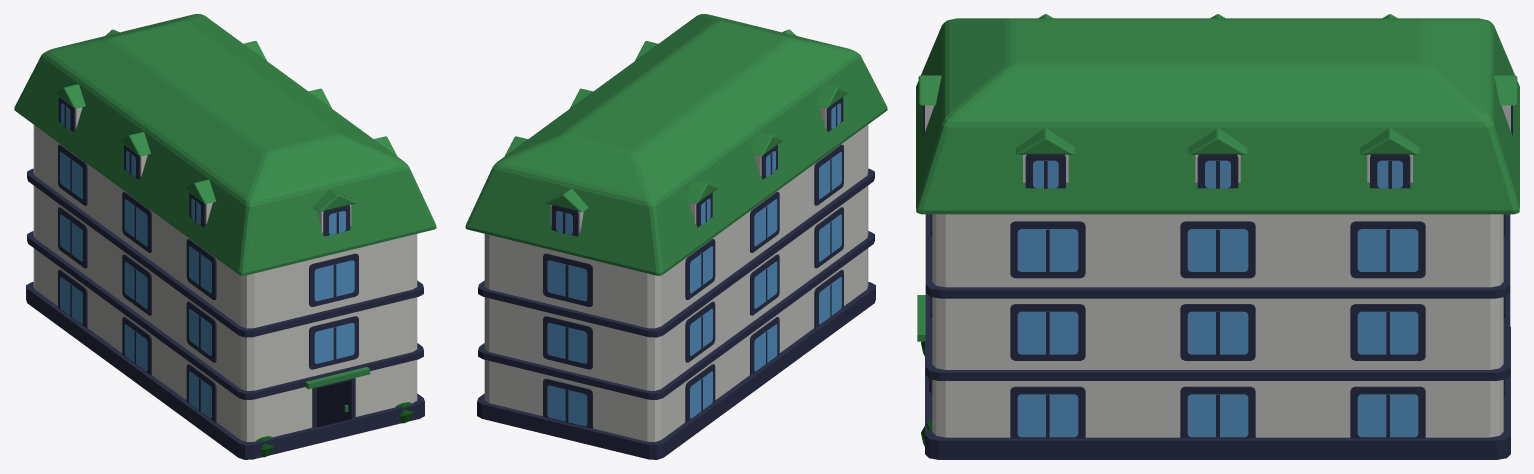
Rendered from house-1x2-3f-mansard-a.glb.
The picture shows the model from 3 angles, left to right: view 1: azimuth 30°, elevation 25°; view 2: azimuth 150°, elevation 25°; view 3: azimuth 270°, elevation 25°; orthographic projection. The views are drawn at different scales.
Parts seen in each view (by area): view 1: house-1x2-3f-mansard-a; view 2: house-1x2-3f-mansard-a; view 3: house-1x2-3f-mansard-a.
Boxes of the visible parts, x1,y1,x2,y2 form: house-1x2-3f-mansard-a: (14,14,436,459); house-1x2-3f-mansard-a: (465,14,887,459); house-1x2-3f-mansard-a: (916,14,1519,459).
Size of the model in its own units: 0.9876 by 1.3 by 1.99.
Materials: 1 (1 with a texture image).
